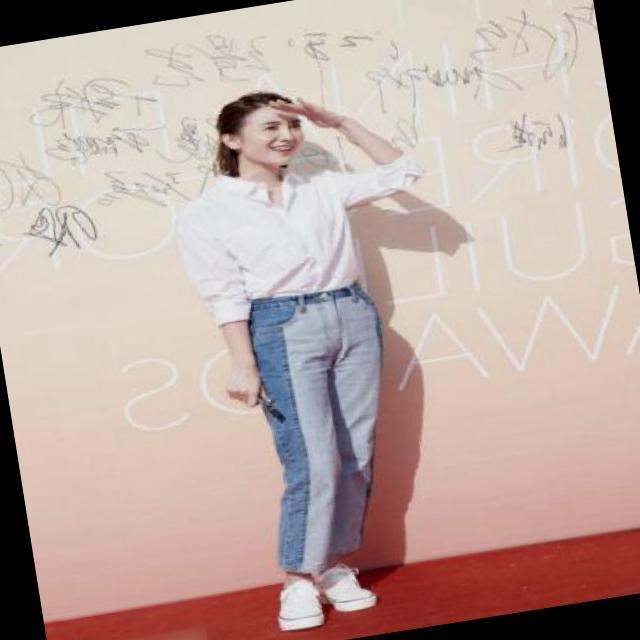Person: (88, 45, 521, 640)
